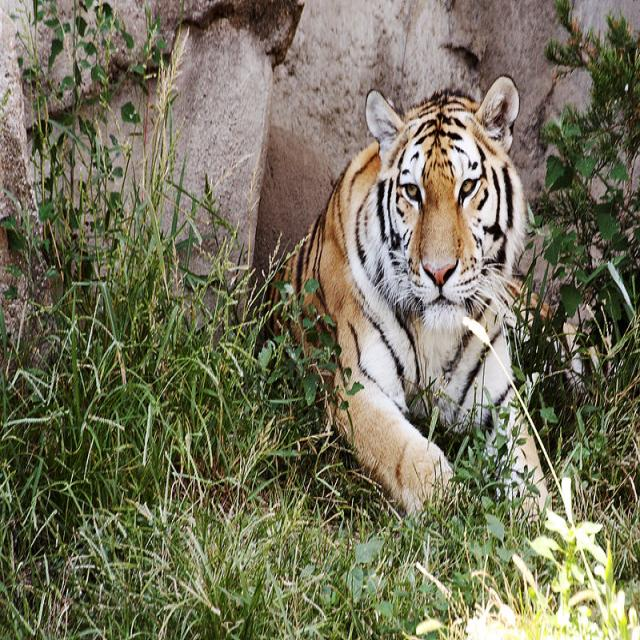Tiger: (253, 67, 550, 526)
